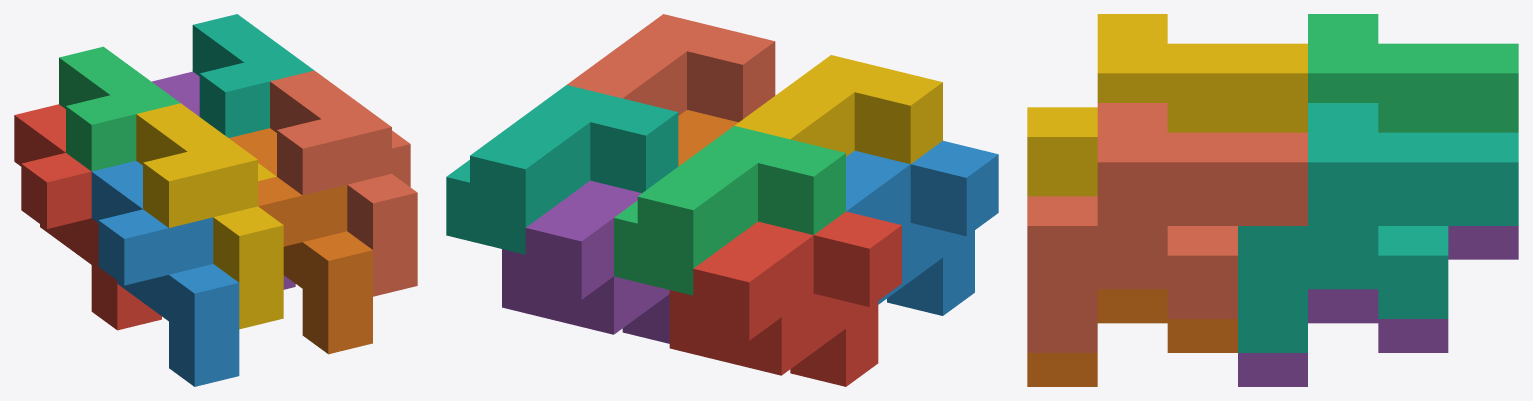
The model's file is tiling.obj.
The picture shows the model from 3 angles, left to right: view 1: azimuth 30°, elevation 25°; view 2: azimuth 150°, elevation 25°; view 3: azimuth 270°, elevation 25°; orthographic projection. The views are drawn at different scales.
Parts seen in each view (by area): view 1: copy_1_domain_8, copy_1_domain_2, copy_1_domain_4, copy_1_domain_6, copy_1_domain_1, copy_1_domain_3, copy_1_domain_7, copy_1_domain_5; view 2: copy_1_domain_1, copy_1_domain_3, copy_1_domain_7, copy_1_domain_2, copy_1_domain_5, copy_1_domain_4, copy_1_domain_8, copy_1_domain_6; view 3: copy_1_domain_8, copy_1_domain_7, copy_1_domain_4, copy_1_domain_3, copy_1_domain_5, copy_1_domain_6.
Part boxes in pixels (box(x1,y1,x2,y2)): copy_1_domain_8: box(270, 70, 417, 296); copy_1_domain_2: box(91, 161, 239, 386); copy_1_domain_4: box(136, 103, 283, 329); copy_1_domain_6: box(229, 128, 372, 354); copy_1_domain_1: box(14, 104, 161, 330); copy_1_domain_3: box(59, 46, 180, 171); copy_1_domain_7: box(192, 14, 314, 137); copy_1_domain_5: box(152, 71, 295, 289); copy_1_domain_1: box(669, 211, 901, 386); copy_1_domain_3: box(614, 126, 845, 295); copy_1_domain_7: box(446, 85, 678, 254); copy_1_domain_2: box(846, 140, 998, 315); copy_1_domain_5: box(502, 180, 669, 343); copy_1_domain_4: box(734, 55, 942, 164); copy_1_domain_8: box(567, 14, 775, 122); copy_1_domain_6: box(678, 110, 738, 166); copy_1_domain_8: box(1027, 103, 1307, 352); copy_1_domain_7: box(1238, 103, 1518, 352); copy_1_domain_4: box(1027, 14, 1307, 196); copy_1_domain_3: box(1308, 14, 1518, 132); copy_1_domain_5: box(1238, 226, 1518, 386); copy_1_domain_6: box(1027, 289, 1237, 386).
Size of the model in its own units: 7 by 4 by 7.
